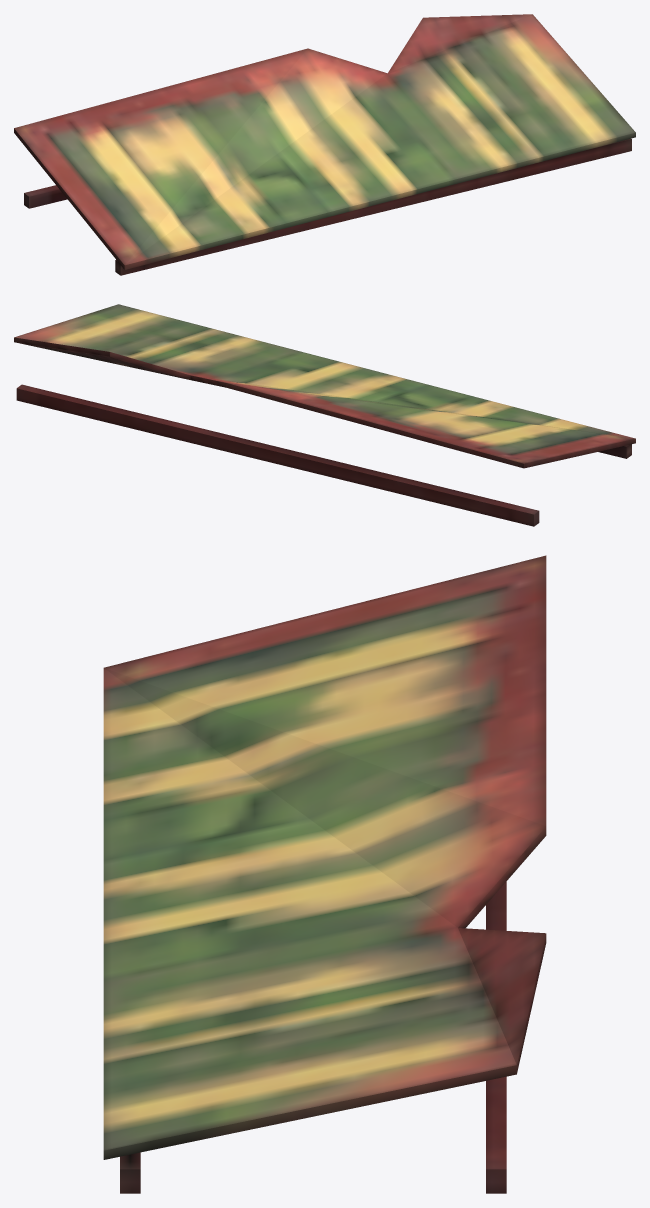
File: DR_FallenAwning.fbx
3 views of the same model, one above another, from view 1: azimuth 30°, elevation 25°; view 2: azimuth 150°, elevation 25°; view 3: azimuth 270°, elevation 25° (orthographic). The views are drawn at different scales.
Parts seen in each view (by area): view 1: DR_FallenAwning; view 2: DR_FallenAwning; view 3: DR_FallenAwning.
Boxes of the visible parts, x1=… form: DR_FallenAwning: x1=14, y1=14, x2=635, y2=275; DR_FallenAwning: x1=14, y1=304, x2=635, y2=526; DR_FallenAwning: x1=103, y1=555, x2=546, y2=1193.
Size of the model in its own units: 4 by 1.5 by 0.6.
Materials: 1 (1 with a texture image).
